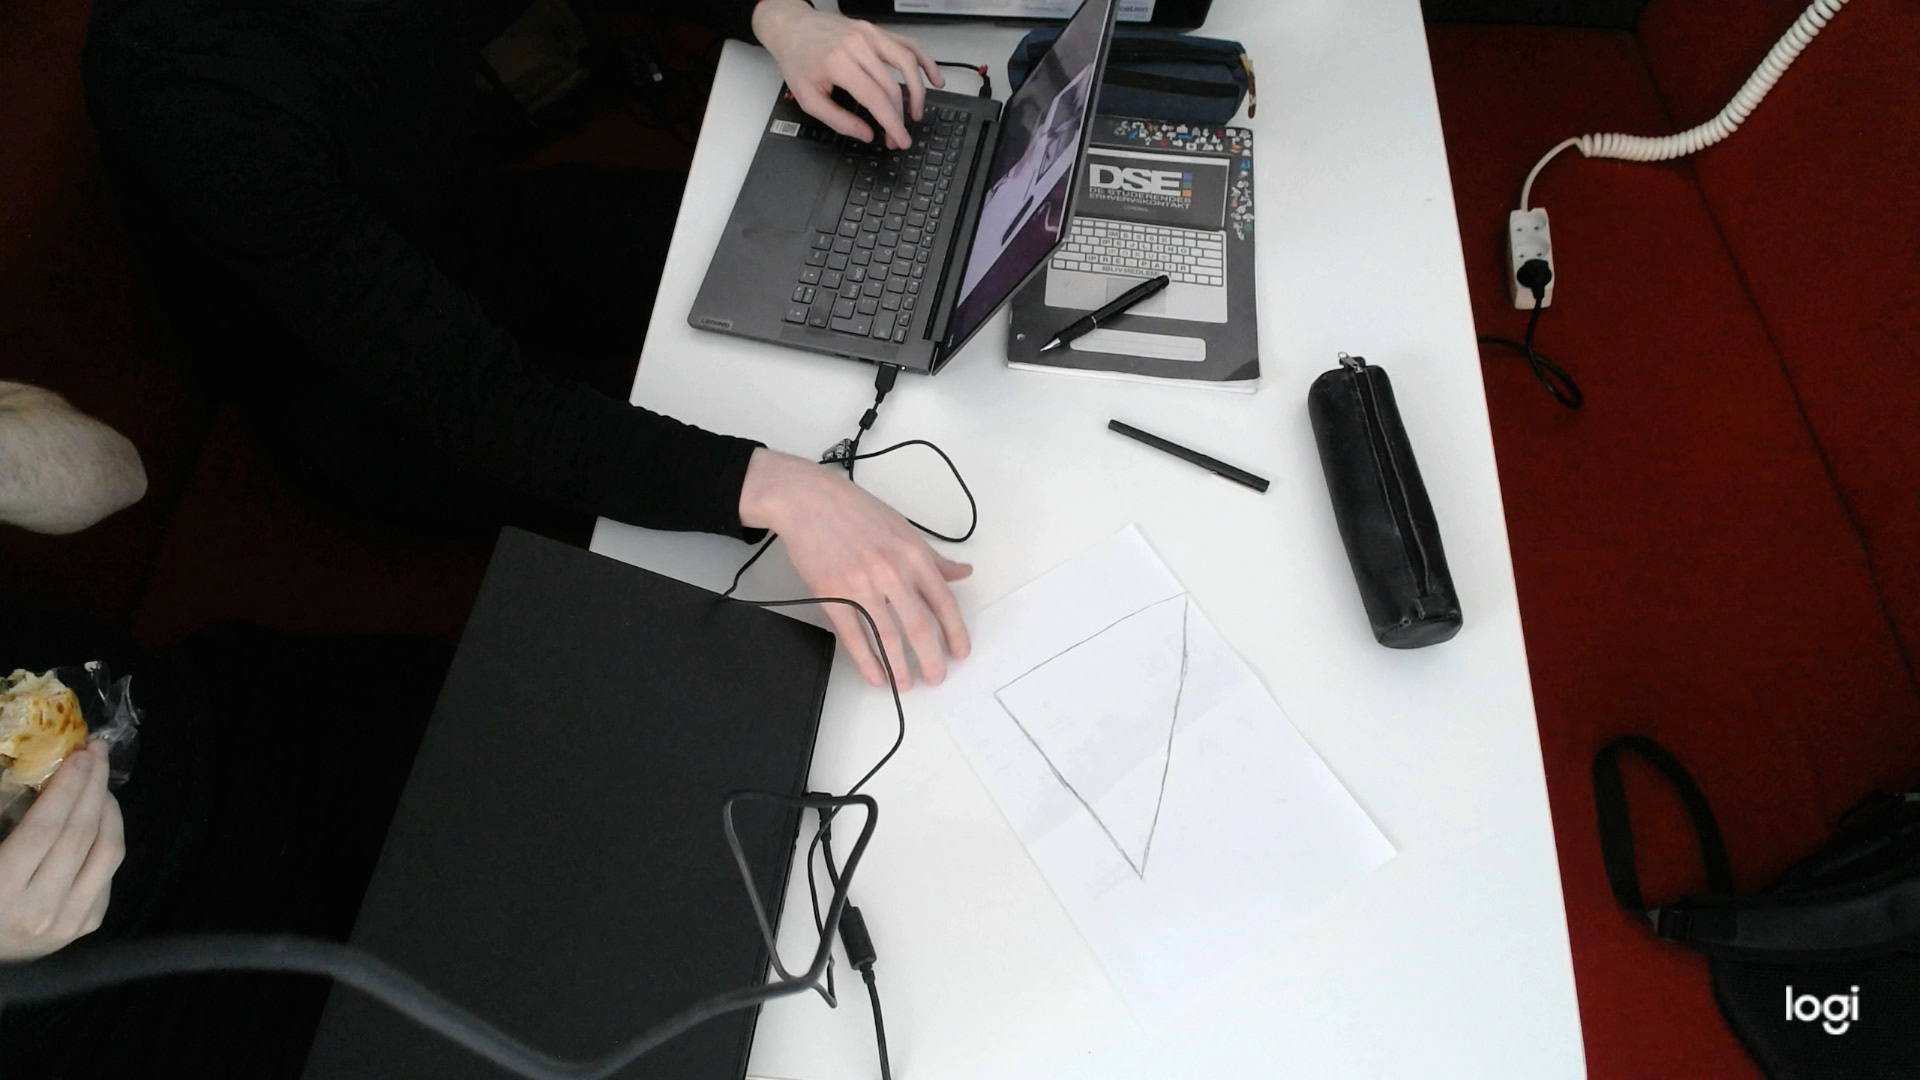Triangle: (988, 587, 1195, 886)
